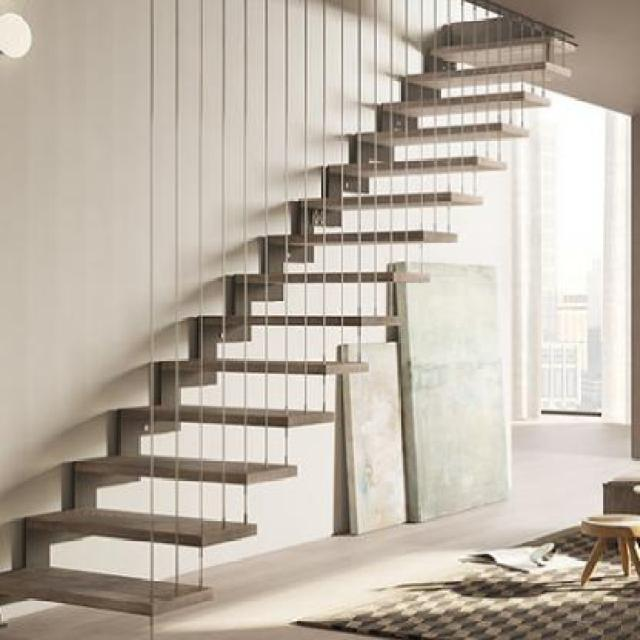stair: (1, 1, 577, 638)
